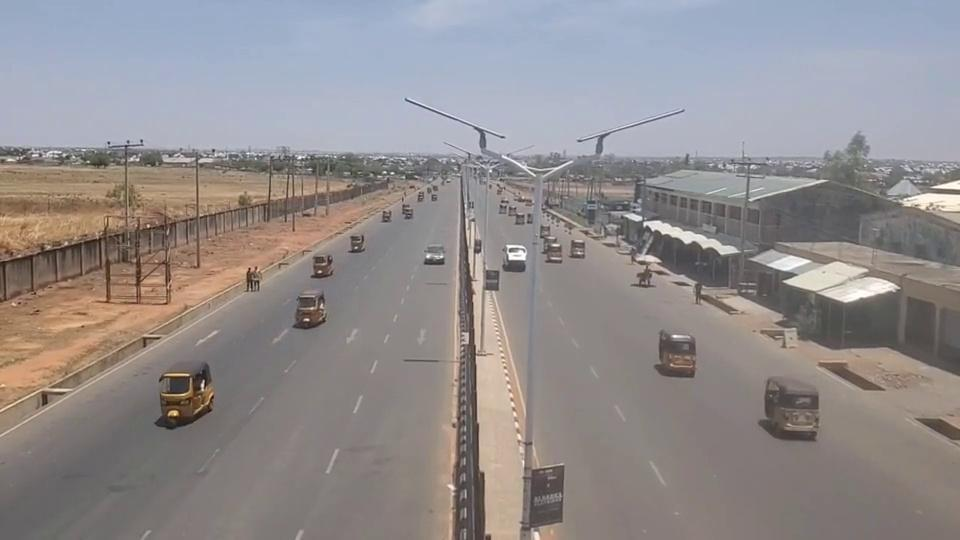keke: (157, 360, 214, 426), (763, 375, 820, 439), (657, 328, 696, 376)
